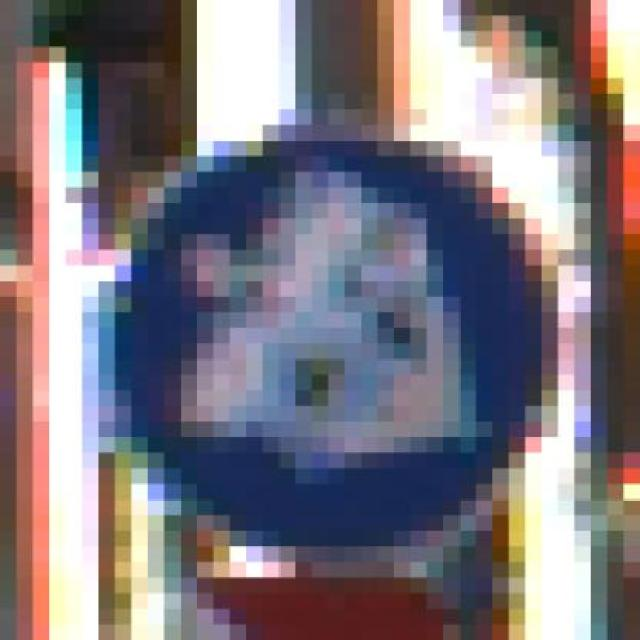Keep-Right: (66, 93, 592, 578)
